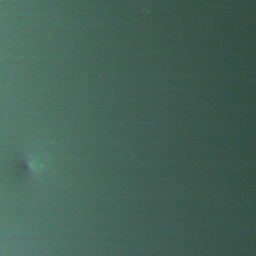dent: (20, 157, 39, 174)
